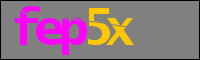5: (88, 7, 107, 47)
e: (38, 17, 61, 46)
f: (13, 6, 36, 47)
p: (62, 17, 87, 56)
x: (110, 16, 135, 47)
